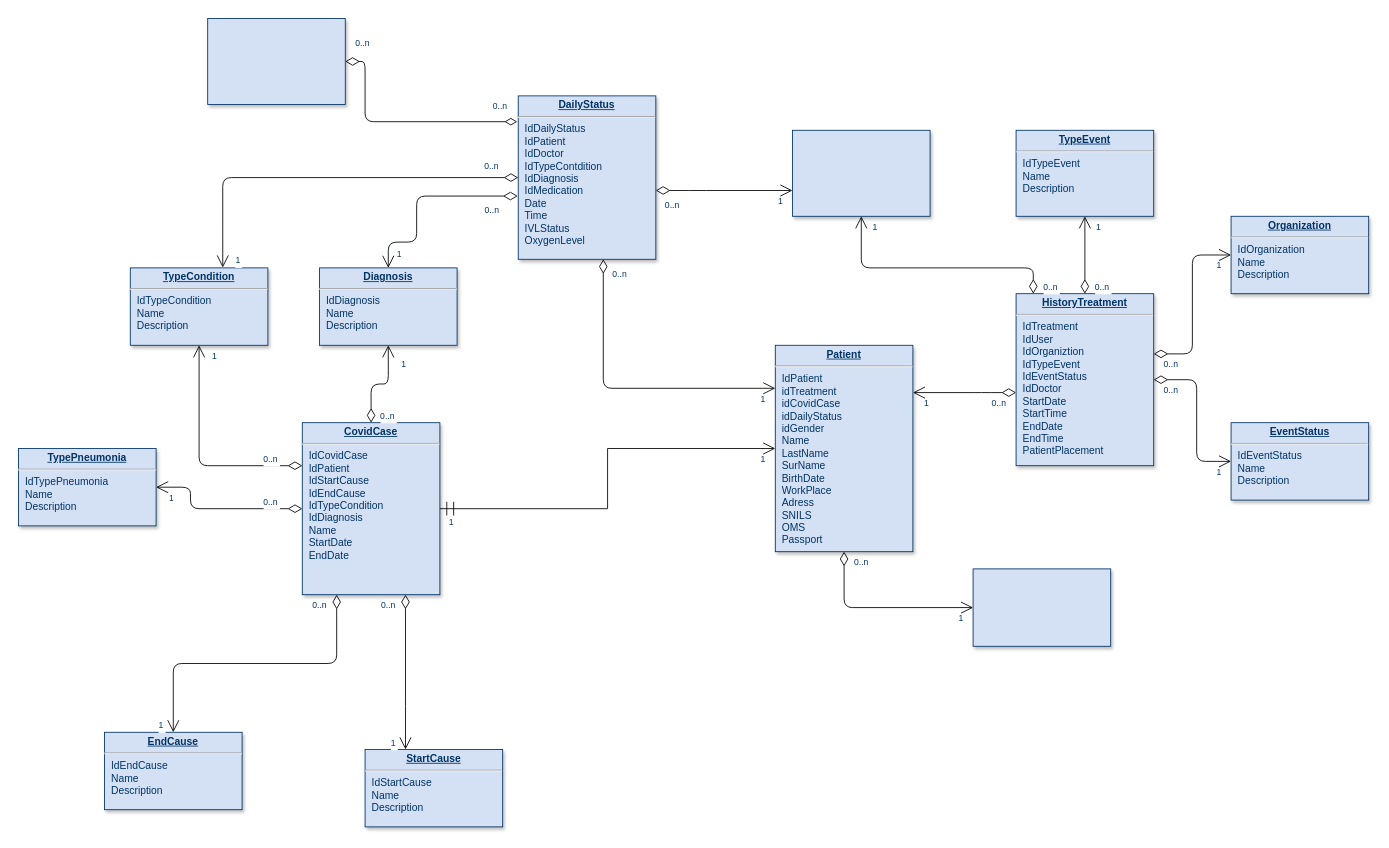
The diagram is 1389 pixels wide and 848 high, and some of its shapes have lost their labels. Each missing label, with the centre of its shape:
Doctor IdDoctor Name Description: pixel 861 174
Gender IdGender Name Description: pixel 1042 608
Medication IdMedication Name Description: pixel 276 62
